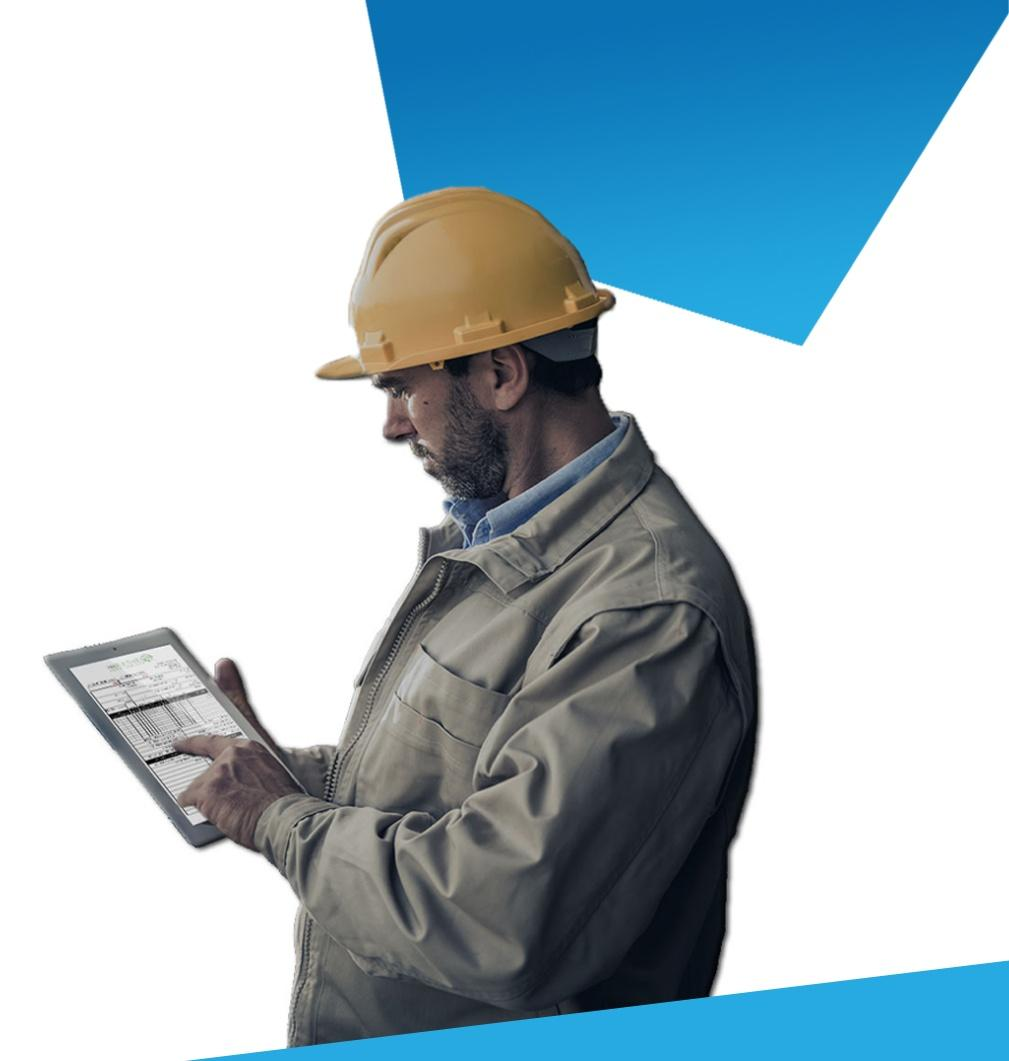helmet: (314, 181, 616, 384)
